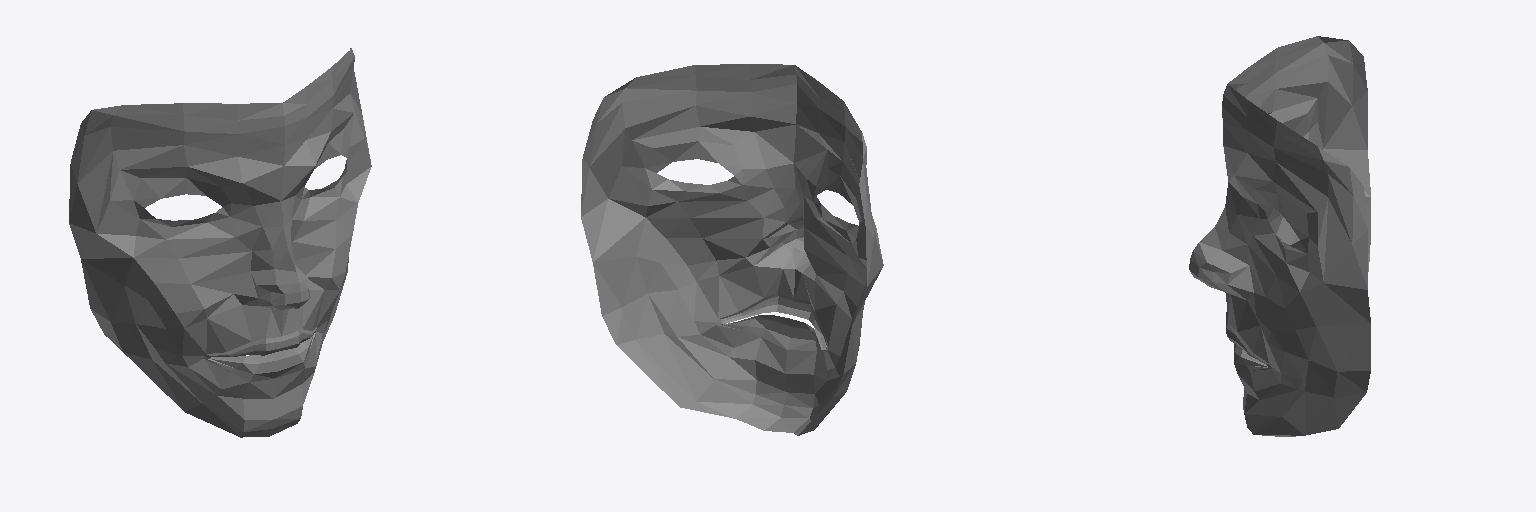
The model's file is orgFaceD.obj.
The picture shows the model from 3 angles: view 1: azimuth 30°, elevation 25°; view 2: azimuth 150°, elevation 25°; view 3: azimuth 270°, elevation 25°; orthographic projection.
Parts seen in each view (by area): view 1: Plane003; view 2: Plane003; view 3: Plane003.
Part boxes in pixels (x1,y1,x2,y2): Plane003: (69,48,371,437); Plane003: (581,64,883,435); Plane003: (1189,36,1370,436).
Size of the model in its own units: 27.54 by 31.63 by 15.18.